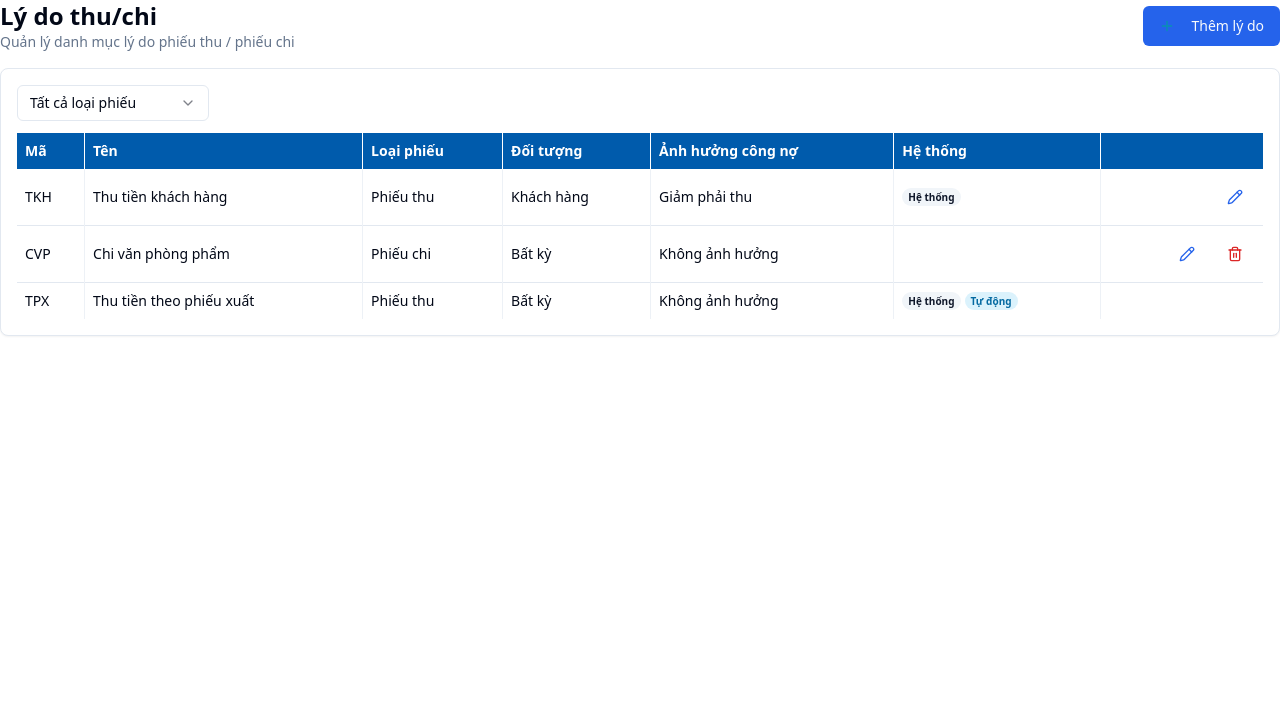
Scenario: CashReasonListPage › auto reasons are read-only
expect the text "Tự động" is shown: met, box [964,292,1018,310]
expect the button "Sửa lý do" is not shown: met
// A system reason keeps its voucher type and partner type.
Click the button named "Sửa lý do" in the row of "TKH" at (1235, 197), box [1215,177,1255,217]
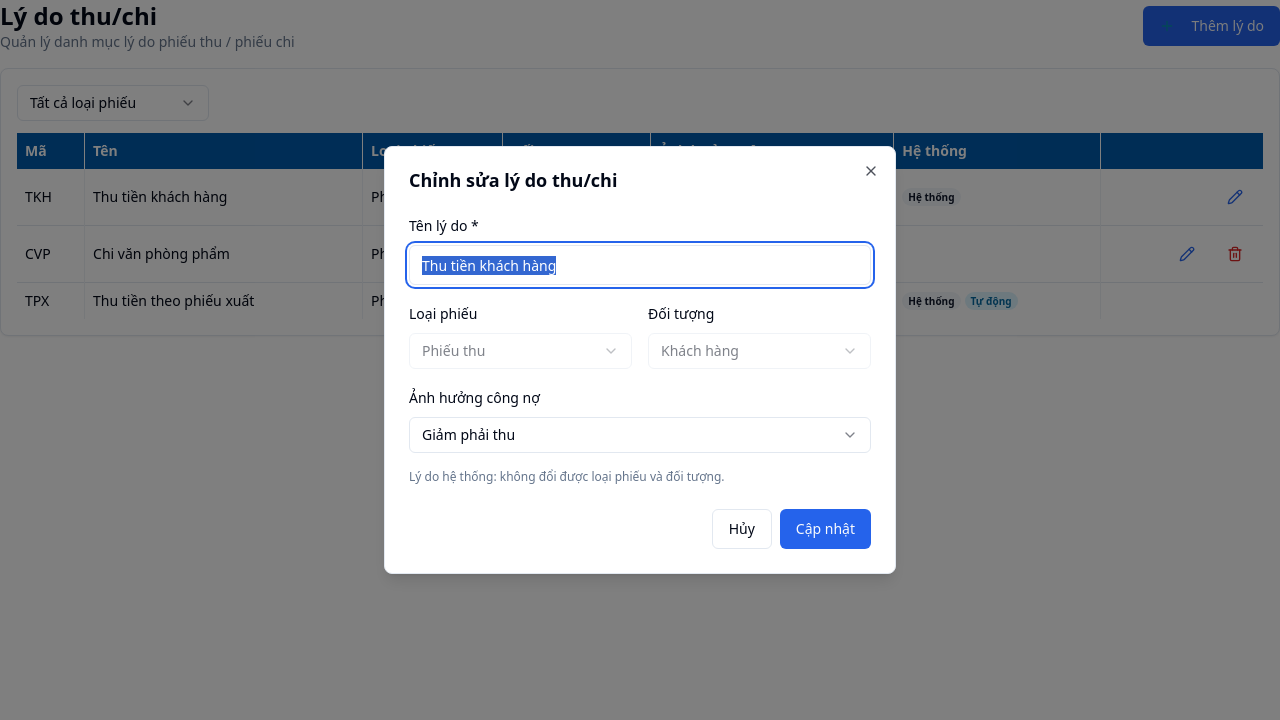
expect the dropdown named "Loại phiếu" is disabled: met, box [409,333,632,369]
expect the dropdown named "Đối tượng" is disabled: met, box [648,333,871,369]
expect the field labelled "Tên lý do *" is enabled: met, box [409,245,871,285]
